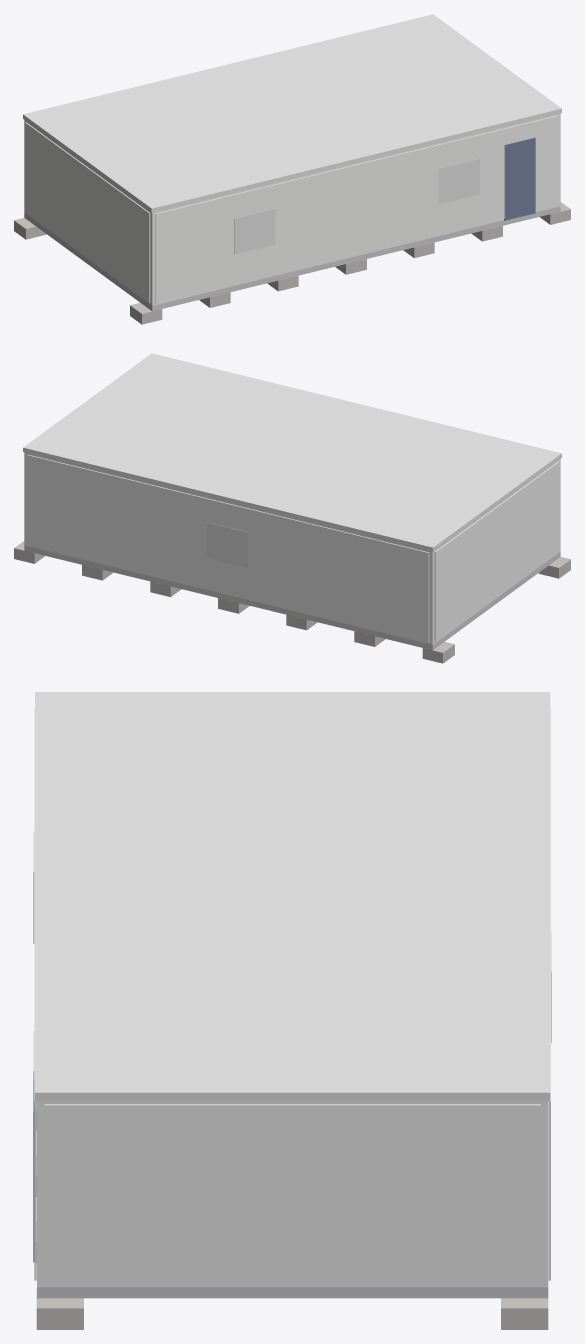
Rendered from Studio-40-Base-LOD2.glb.
3 renders of one model, top to bottom at view 1: azimuth 30°, elevation 25°; view 2: azimuth 150°, elevation 25°; view 3: azimuth 270°, elevation 25°, orthographic. The views are drawn at different scales.
Parts seen in each view (by area): view 1: RoofMain, ExteriorPanelsStandard, BaseFrame, WindowsStandard, ExteriorShell, FoundationBlocks, EntryDoor; view 2: RoofMain, ExteriorPanelsStandard, BaseFrame, ExteriorShell, FoundationBlocks, WindowsStandard; view 3: RoofMain, ExteriorPanelsStandard, ExteriorShell, BaseFrame, FoundationBlocks.
Boxes of the visible parts, x1,y1,x2,y2 form: RoofMain: (23,14,561,212); ExteriorPanelsStandard: (25,115,557,303); BaseFrame: (24,206,560,311); WindowsStandard: (234,158,479,254); ExteriorShell: (24,113,560,305); FoundationBlocks: (14,202,570,324); EntryDoor: (504,137,535,220); RoofMain: (23,353,561,551); ExteriorPanelsStandard: (27,454,559,642); BaseFrame: (24,545,560,650); ExteriorShell: (24,452,560,644); FoundationBlocks: (14,541,570,663); WindowsStandard: (207,522,248,568); RoofMain: (35,692,550,1101); ExteriorPanelsStandard: (34,708,550,1284); ExteriorShell: (37,1101,548,1287); BaseFrame: (37,1287,548,1298); FoundationBlocks: (36,1101,548,1329).
Bounding box in the file's own units: 12.49 × 3.17 × 6.53.
